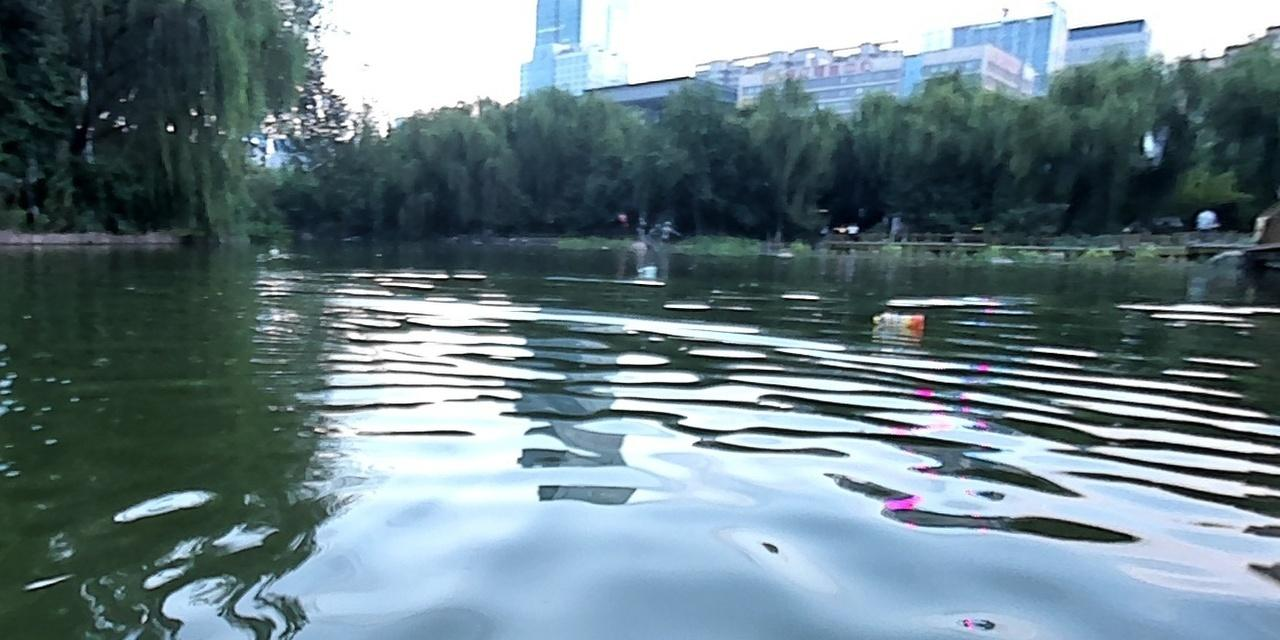bottle: (873, 312, 923, 330), (637, 264, 659, 274)
